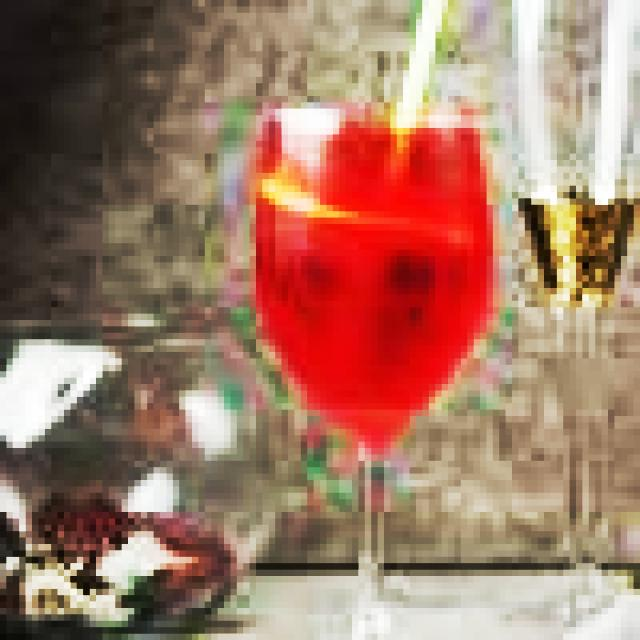drink: (243, 96, 512, 634)
